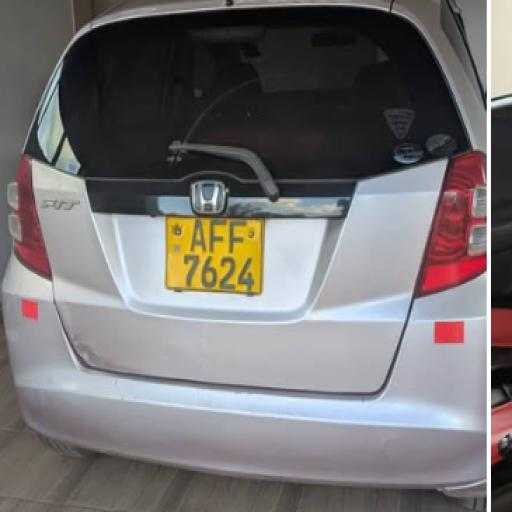number-plates: (166, 212, 260, 296)
